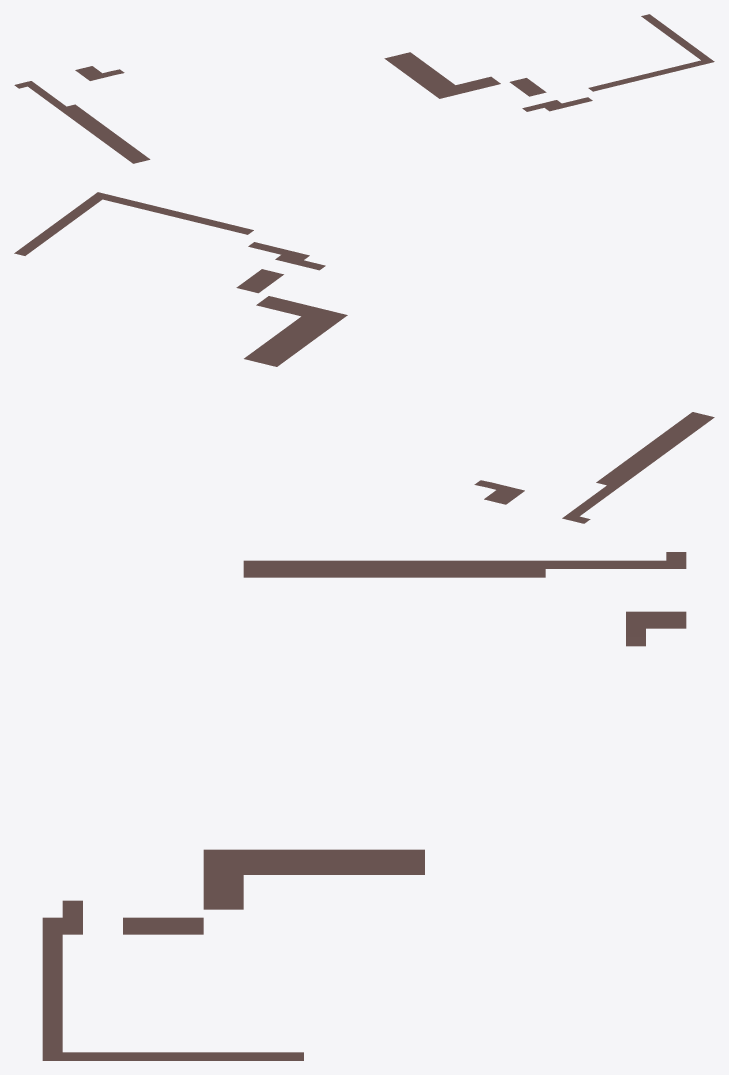
File: _roofs.fbx
3 renders of one model, top to bottom at view 1: azimuth 30°, elevation 25°; view 2: azimuth 150°, elevation 25°; view 3: azimuth 270°, elevation 25°, orthographic. The views are drawn at different scales.
Parts seen in each view (by area): view 1: Platform.000; view 2: Platform.000; view 3: Platform.000.
Boxes of the visible parts, bbox=[...] form: Platform.000: bbox=[14, 14, 714, 163]; Platform.000: bbox=[14, 192, 714, 523]; Platform.000: bbox=[42, 552, 686, 1060].
Size of the model in its own units: 18600 by 310 by 9600.
